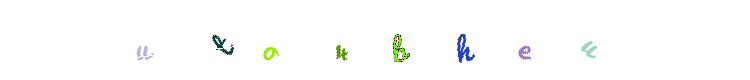4: (334, 0, 414, 80)
B: (350, 0, 430, 80)
E: (391, 0, 471, 80)
H: (359, 0, 439, 80)
O: (303, 0, 383, 80)
T: (301, 0, 381, 80)
U: (182, 0, 262, 80), (423, 0, 503, 80)
